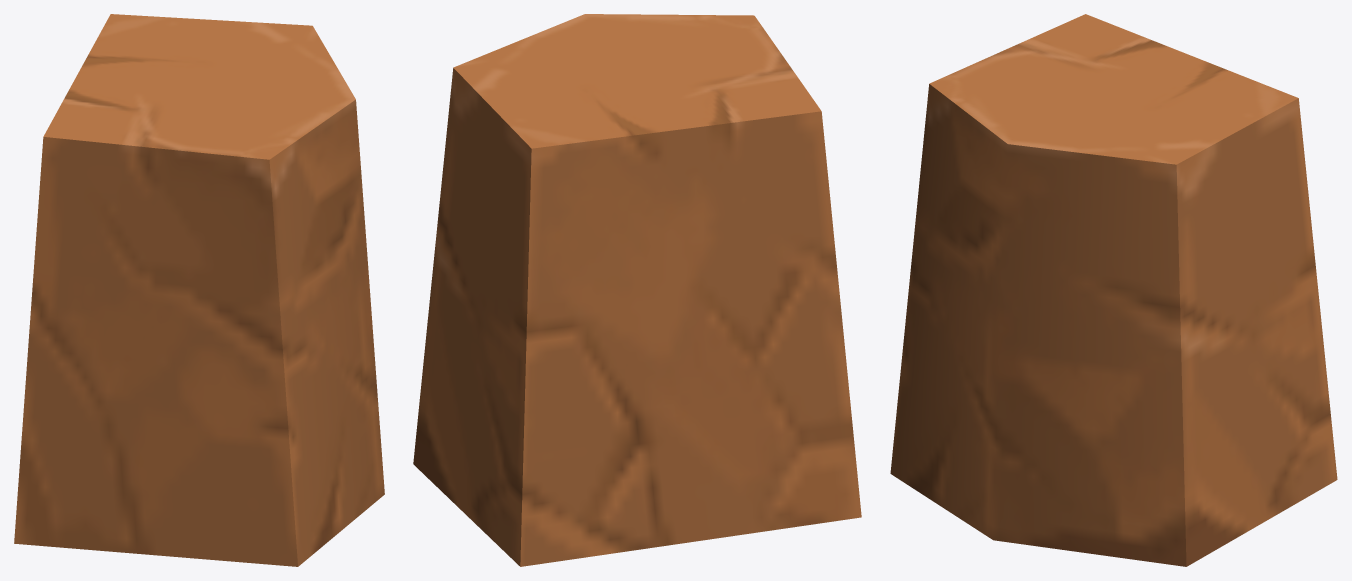
File: xiaowujian04.FBX
3 renders of one model, left to right at view 1: azimuth 30°, elevation 25°; view 2: azimuth 150°, elevation 25°; view 3: azimuth 270°, elevation 25°, orthographic. The views are drawn at different scales.
Parts seen in each view (by area): view 1: Object045; view 2: Object045; view 3: Object045.
Part boxes in pixels (box(x1,y1,x2,y2)): Object045: box(14, 14, 384, 566); Object045: box(413, 14, 861, 566); Object045: box(890, 14, 1337, 566).
Size of the model in its own units: 86.09 by 84.47 by 88.68.
